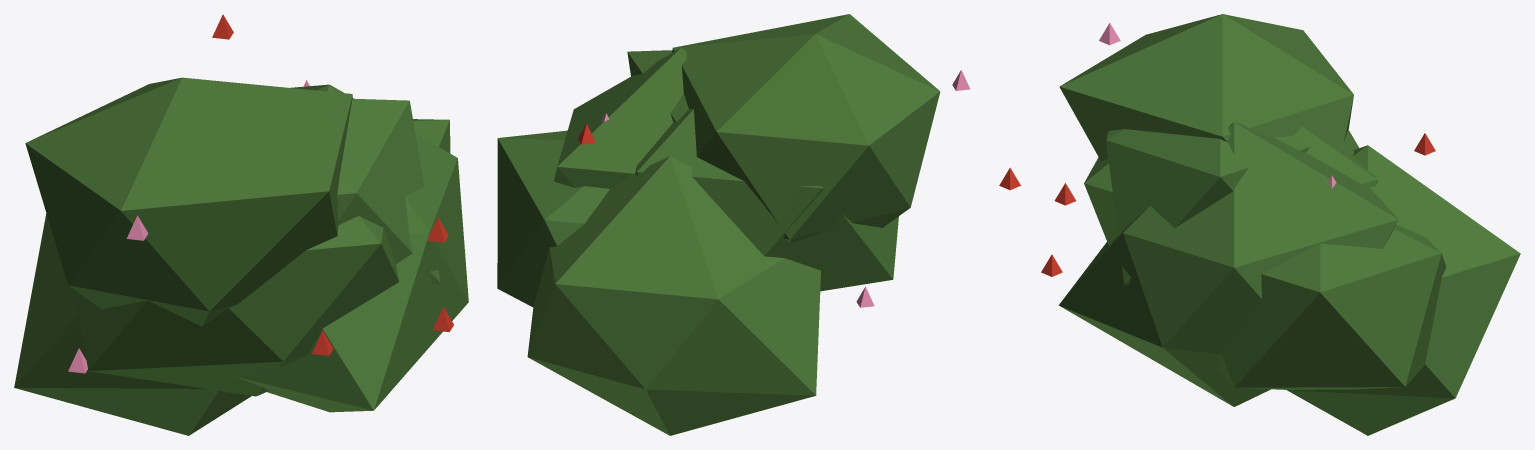
Rendered from nypon_1.glb.
3 views of the same model, side by side, from view 1: azimuth 30°, elevation 25°; view 2: azimuth 150°, elevation 25°; view 3: azimuth 270°, elevation 25° (orthographic). The views are drawn at different scales.
Visible parts, largest first — view 1: nypon_1; view 2: nypon_1; view 3: nypon_1.
Part boxes in pixels (bbox=[...]): nypon_1: bbox=[14, 14, 468, 435]; nypon_1: bbox=[497, 14, 969, 435]; nypon_1: bbox=[999, 14, 1520, 435].
Bounding box in the file's own units: 1.7 × 1.62 × 1.99.
